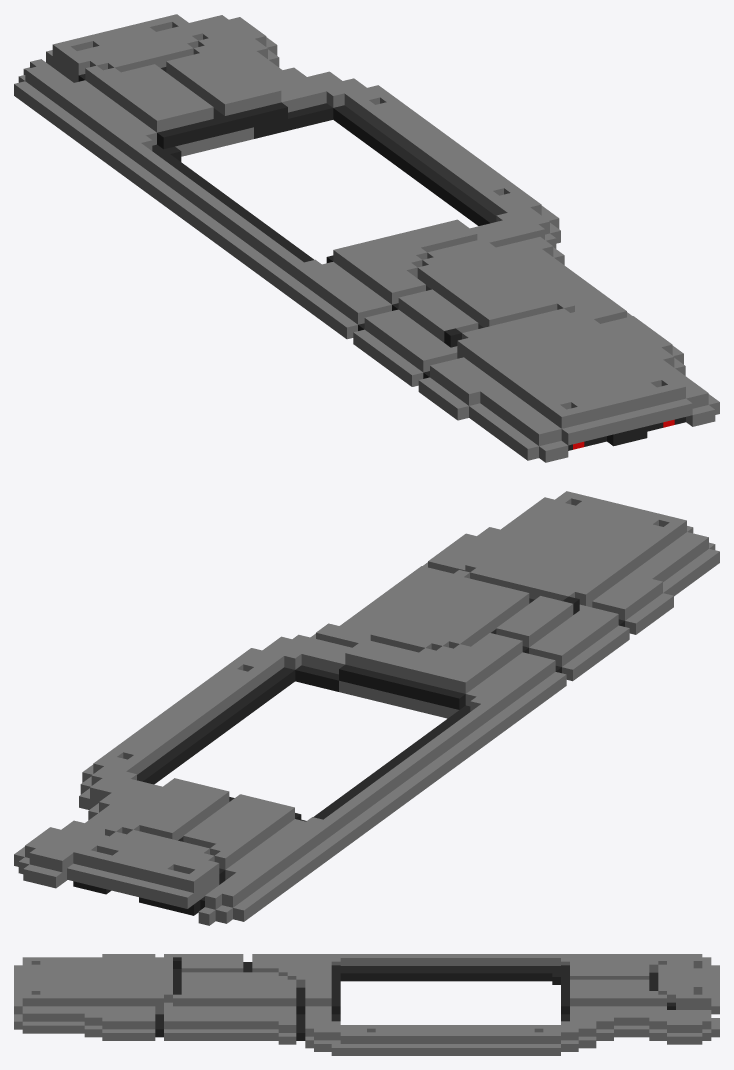
The model's file is CanonXother-1-DualStriker_TopShell_R.obj.
3 renders of one model, top to bottom at view 1: azimuth 30°, elevation 25°; view 2: azimuth 150°, elevation 25°; view 3: azimuth 270°, elevation 25°, orthographic. The views are drawn at different scales.
Parts seen in each view (by area): view 1: DualStriker_TopShell_R; view 2: DualStriker_TopShell_R; view 3: DualStriker_TopShell_R.
Part boxes in pixels (x1=…): DualStriker_TopShell_R: x1=14, y1=14, x2=719, y2=462; DualStriker_TopShell_R: x1=14, y1=491, x2=719, y2=925; DualStriker_TopShell_R: x1=14, y1=954, x2=719, y2=1055.
Bounding box in the file's own units: 2.4 × 0.3 × 8.
Materials: 1 (1 with a texture image).
